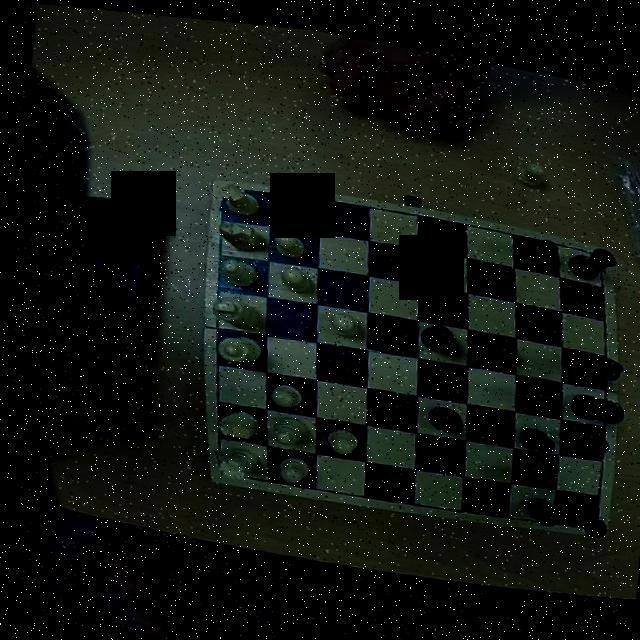chess-table-corners: (204, 444, 240, 482), (208, 174, 242, 210), (571, 491, 602, 524), (584, 234, 615, 262)
